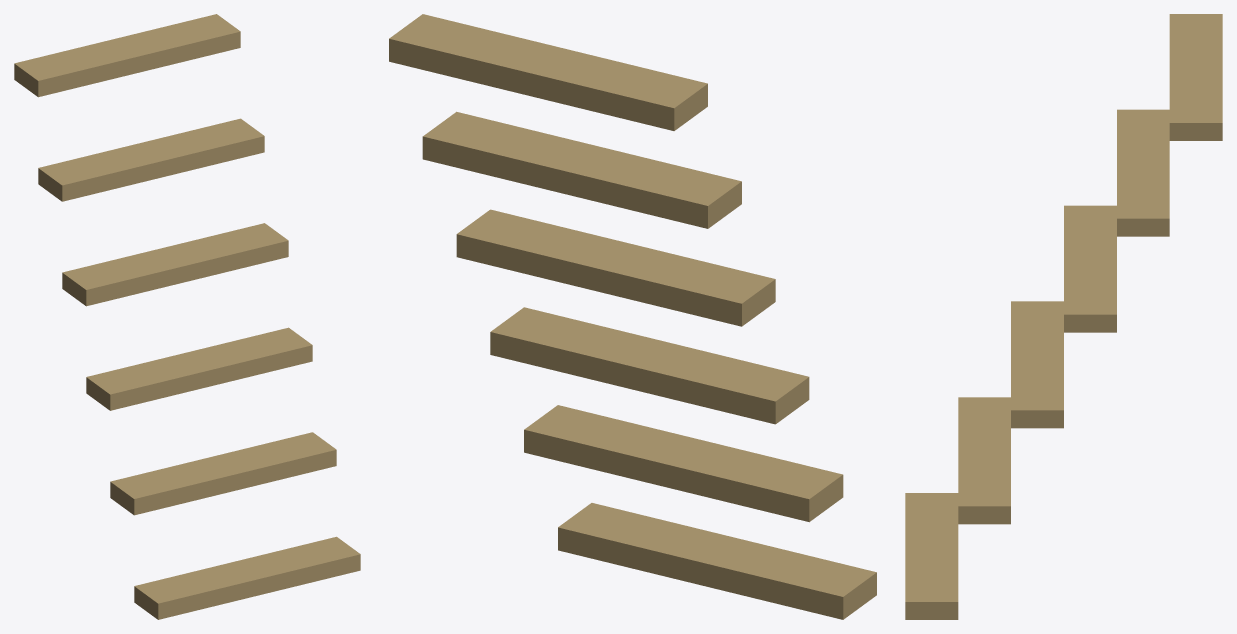
Rendered from Nhà-3.obj.
3 renders of one model, left to right at view 1: azimuth 30°, elevation 25°; view 2: azimuth 150°, elevation 25°; view 3: azimuth 270°, elevation 25°, orthographic. The views are drawn at different scales.
Bounding box in the file's own units: 3.9 × 8.3 × 4.8.
Materials: 1 (1 with a texture image).
